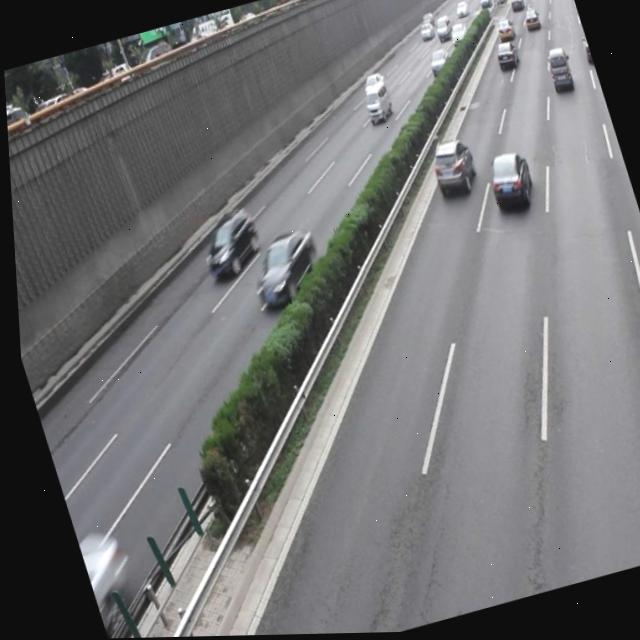car: (239, 225, 325, 310), (70, 530, 135, 639), (189, 203, 265, 285), (478, 148, 536, 215), (422, 132, 479, 200)
truck: (541, 48, 575, 98)
